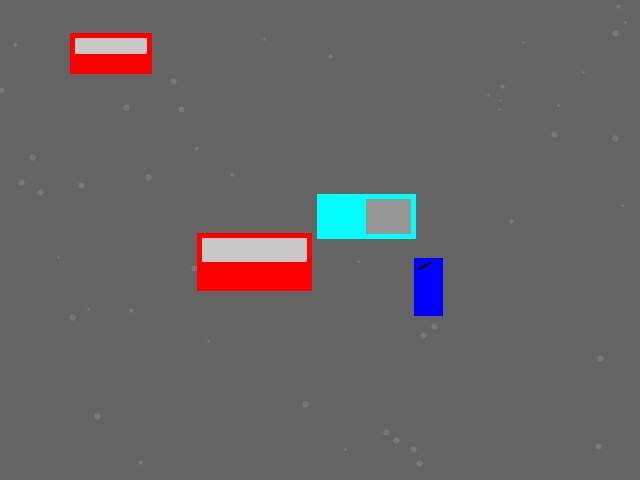car: (197, 233, 311, 290), (70, 33, 151, 73)
motorcycle: (414, 258, 442, 315)
truck: (317, 194, 415, 238)
